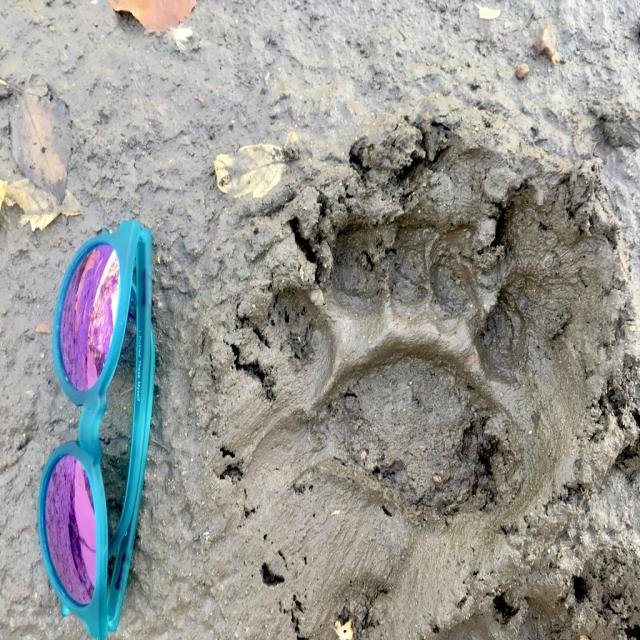bear: (275, 216, 535, 516)
